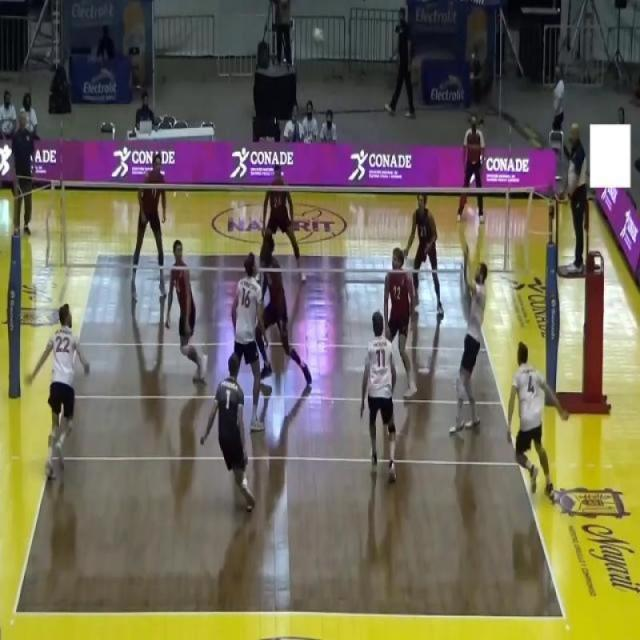volleyball: (312, 27, 326, 47)
